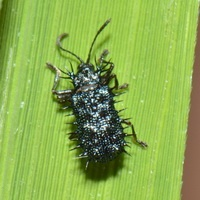insect: (46, 18, 146, 168)
